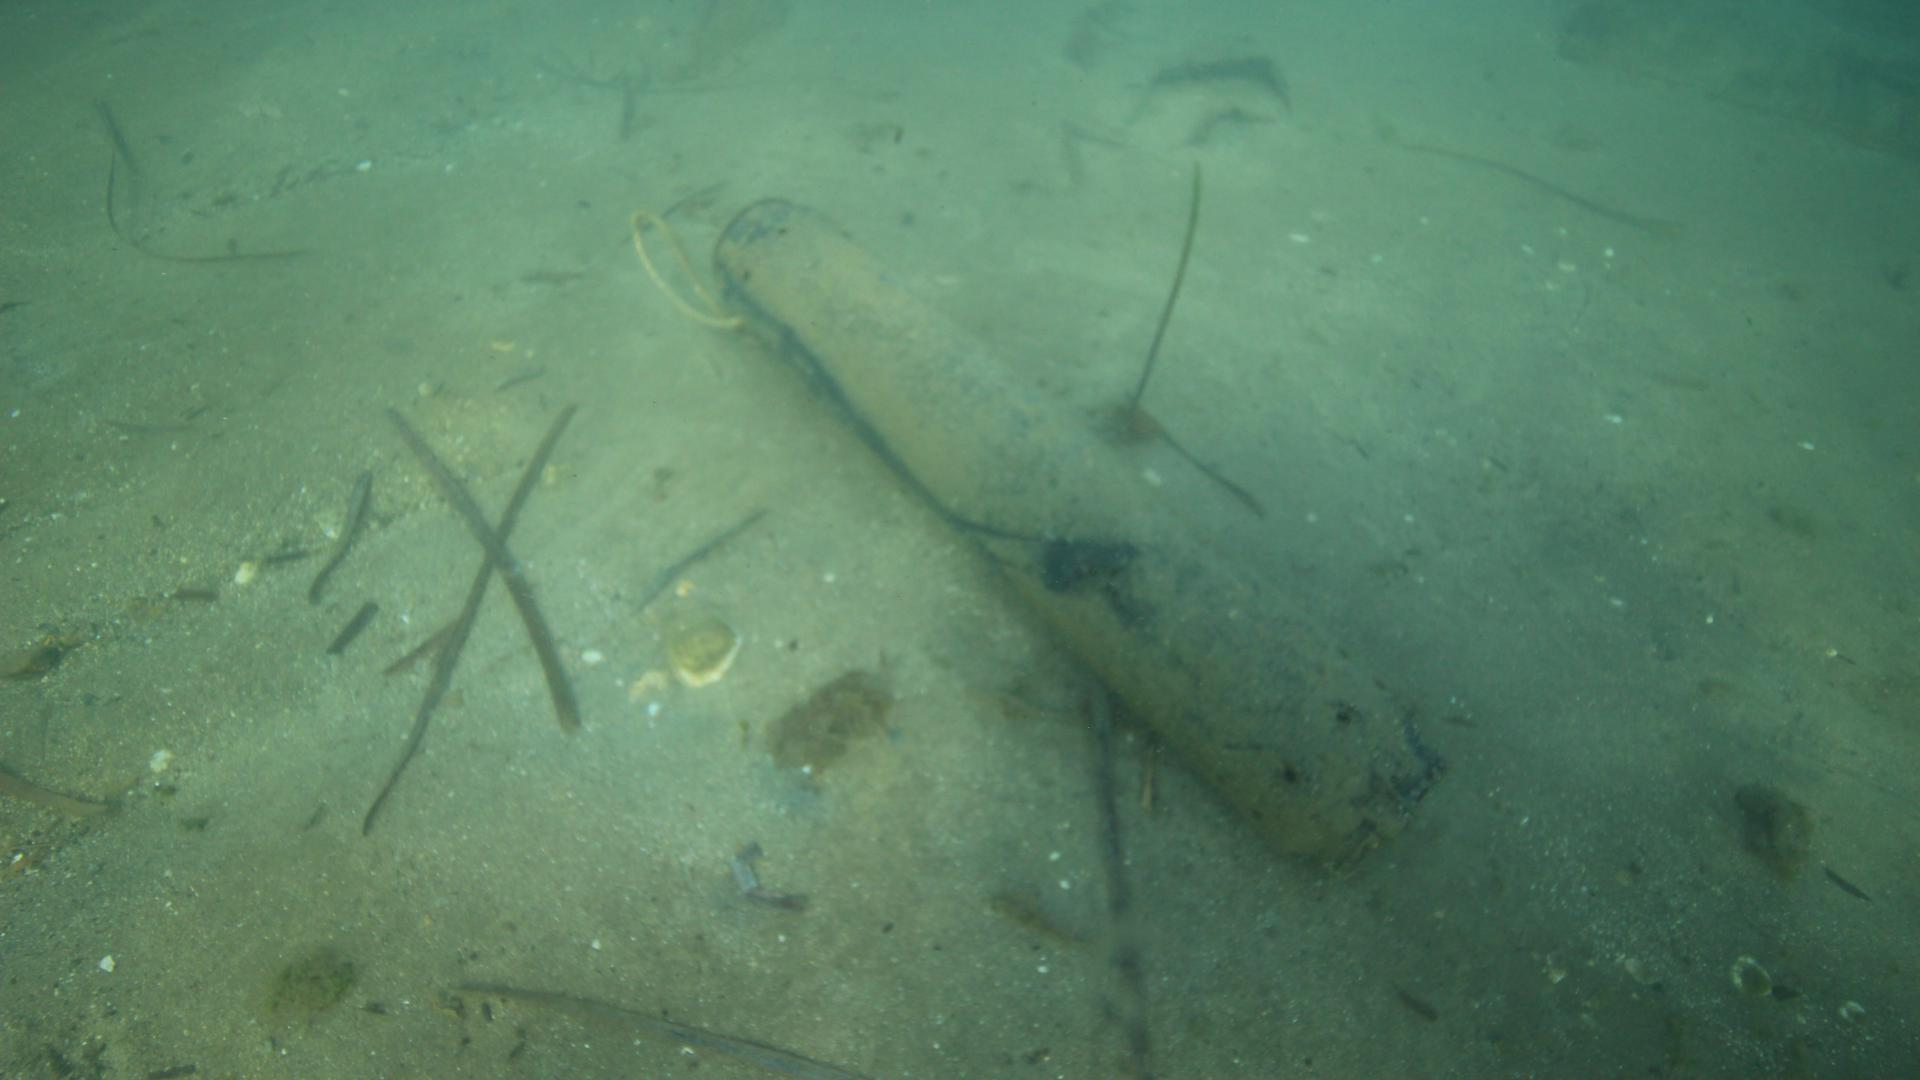bundle of ropes: (626, 204, 752, 328)
eel fish trap: (707, 194, 1453, 876)
